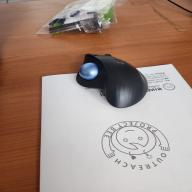mouse: (74, 51, 148, 110)
